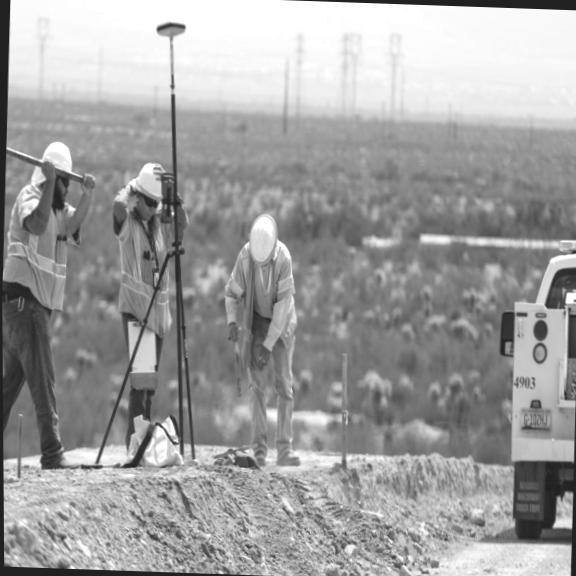safety_vest: (111, 214, 174, 337), (224, 244, 300, 345), (1, 180, 70, 290)
